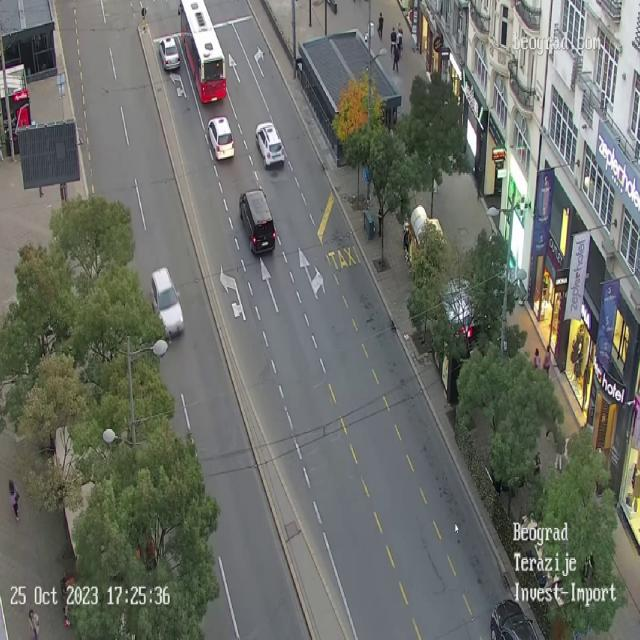bus: (179, 0, 226, 104)
car: (150, 266, 184, 341), (239, 188, 276, 255), (490, 598, 539, 640), (255, 121, 285, 169), (207, 116, 235, 161), (159, 36, 180, 71)
